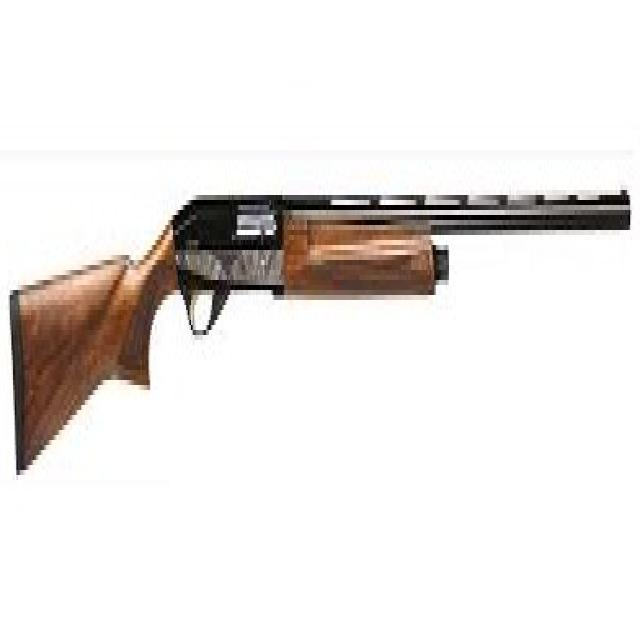rifle: (8, 181, 632, 490)
